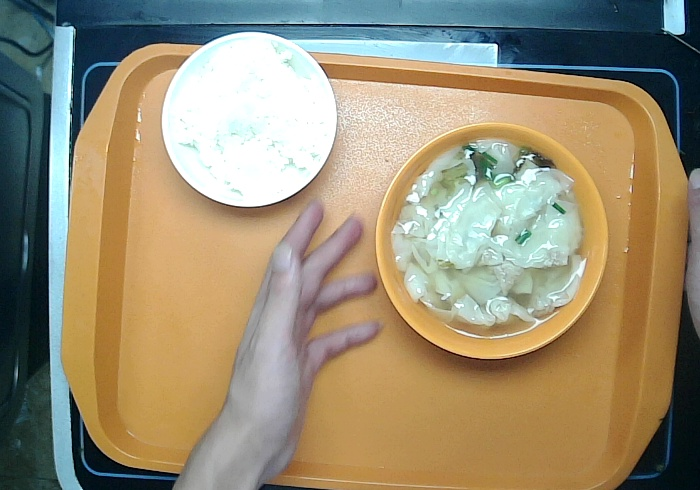NLDX-Fan_Wan: (155, 24, 343, 211)
NLDX-Hun_Tun_Wan: (362, 118, 617, 366)
